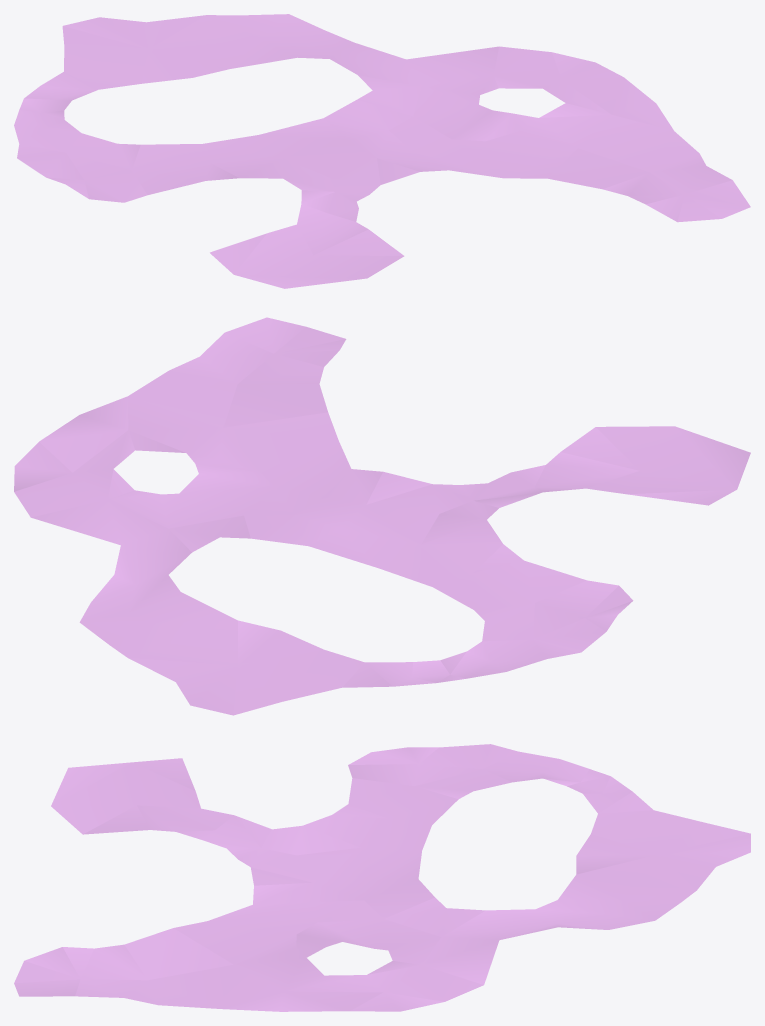
File: rzjd_collision_01.FBX
3 views of the same model, one above another, from view 1: azimuth 30°, elevation 25°; view 2: azimuth 150°, elevation 25°; view 3: azimuth 270°, elevation 25° (orthographic). The views are drawn at different scales.
Visible parts, largest first — view 1: rzjd_collider_01; view 2: rzjd_collider_01; view 3: rzjd_collider_01.
Boxes of the visible parts, x1,y1,x2,y2 form: rzjd_collider_01: [14, 14, 750, 288]; rzjd_collider_01: [14, 317, 750, 715]; rzjd_collider_01: [14, 744, 750, 1011].
Size of the model in its own units: 10190 by 224 by 11860.
